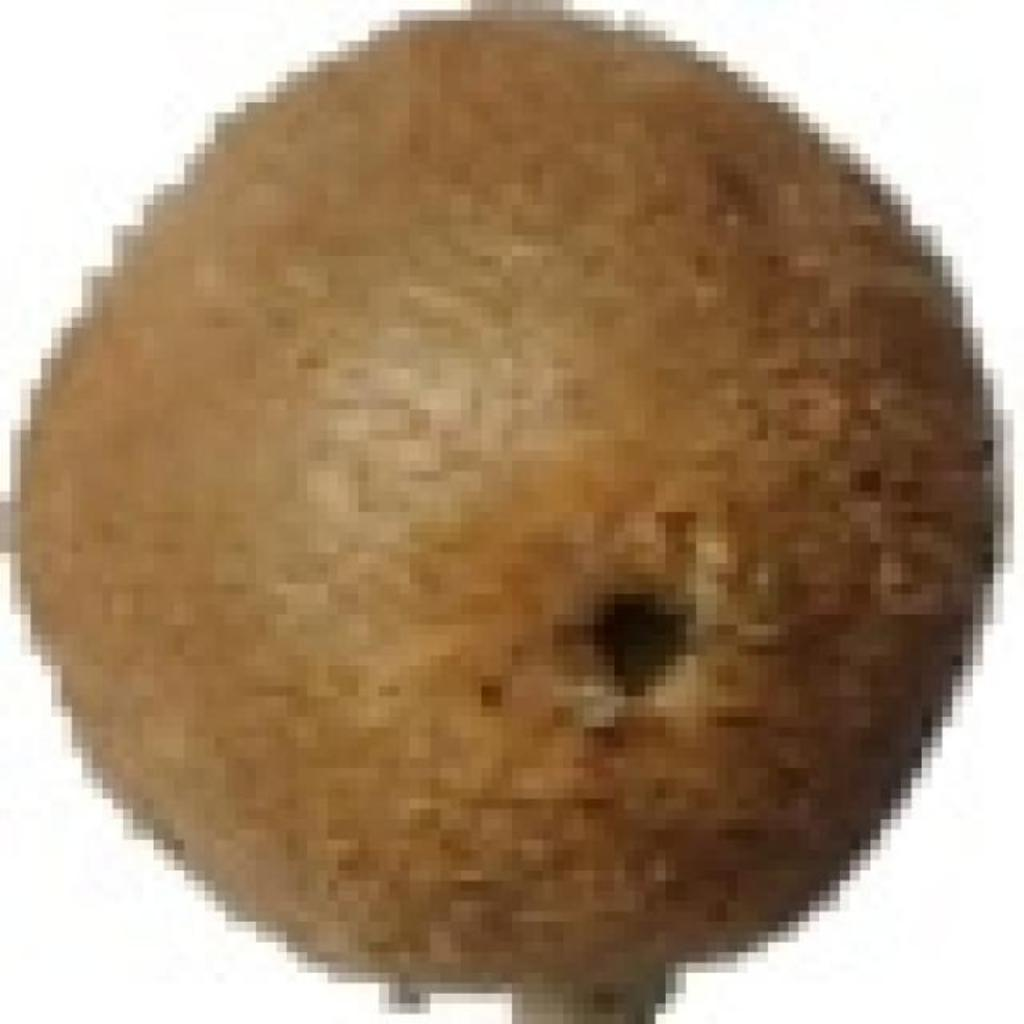kiwi: (25, 25, 997, 1022)
